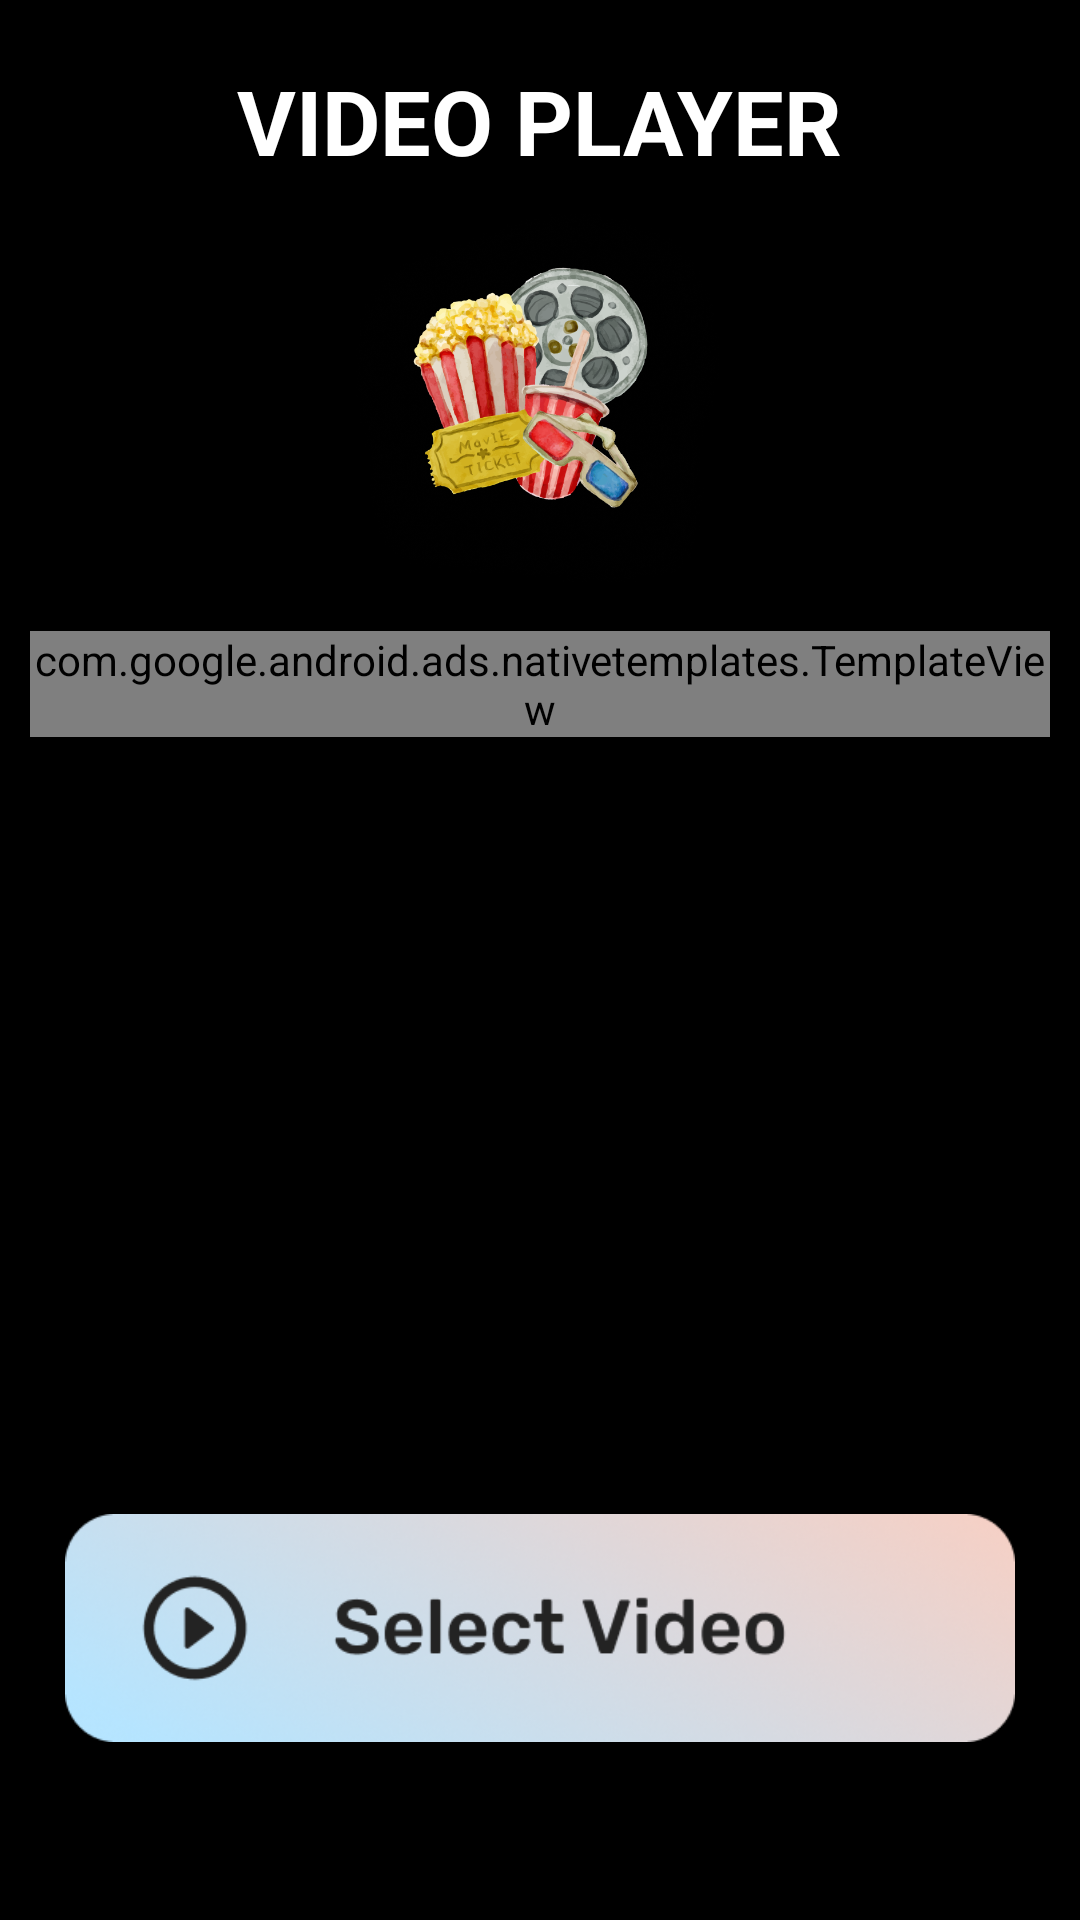

Icons on this 1080×1920 Android screen, each with its box as (x1, y1, x2, y2):
popcorn: (413, 267, 648, 508)
